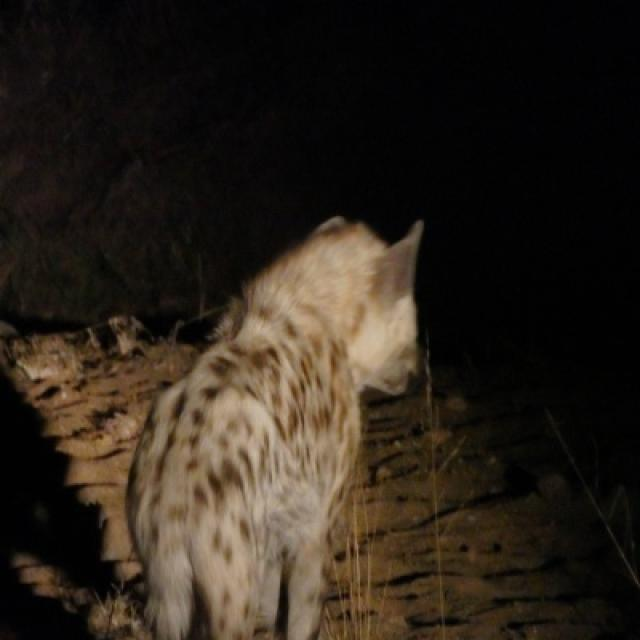hyena: (123, 216, 424, 638)
